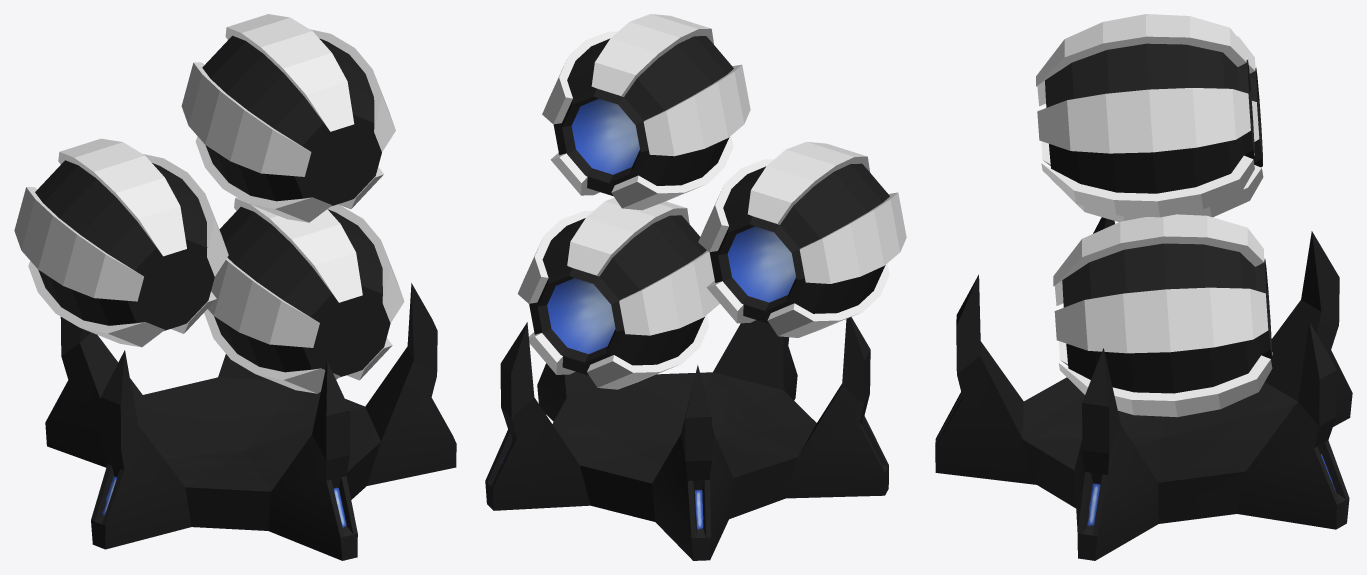
The model's file is TDTornSlow44.fbx.
The picture shows the model from 3 angles, left to right: view 1: azimuth 30°, elevation 25°; view 2: azimuth 150°, elevation 25°; view 3: azimuth 270°, elevation 25°; orthographic projection. The views are drawn at different scales.
Visible parts, largest first — view 1: polySurface61, polySurface75, polySurface77, polySurface80; view 2: polySurface61, polySurface75, polySurface77, polySurface80; view 3: polySurface61, polySurface75, polySurface80, polySurface77.
Boxes of the visible parts, x1=… form: polySurface61: x1=45, y1=283, x2=456, y2=560; polySurface75: x1=181, y1=14, x2=395, y2=222; polySurface77: x1=14, y1=138, x2=228, y2=347; polySurface80: x1=204, y1=197, x2=404, y2=393; polySurface61: x1=485, y1=317, x2=888, y2=560; polySurface75: x1=542, y1=14, x2=750, y2=210; polySurface77: x1=698, y1=142, x2=906, y2=337; polySurface80: x1=517, y1=197, x2=719, y2=389; polySurface61: x1=935, y1=217, x2=1352, y2=560; polySurface75: x1=1036, y1=14, x2=1254, y2=217; polySurface80: x1=1053, y1=214, x2=1272, y2=417; polySurface77: x1=1050, y1=35, x2=1263, y2=221.
Bounding box in the file's own units: 21.7 × 23.73 × 19.33.
